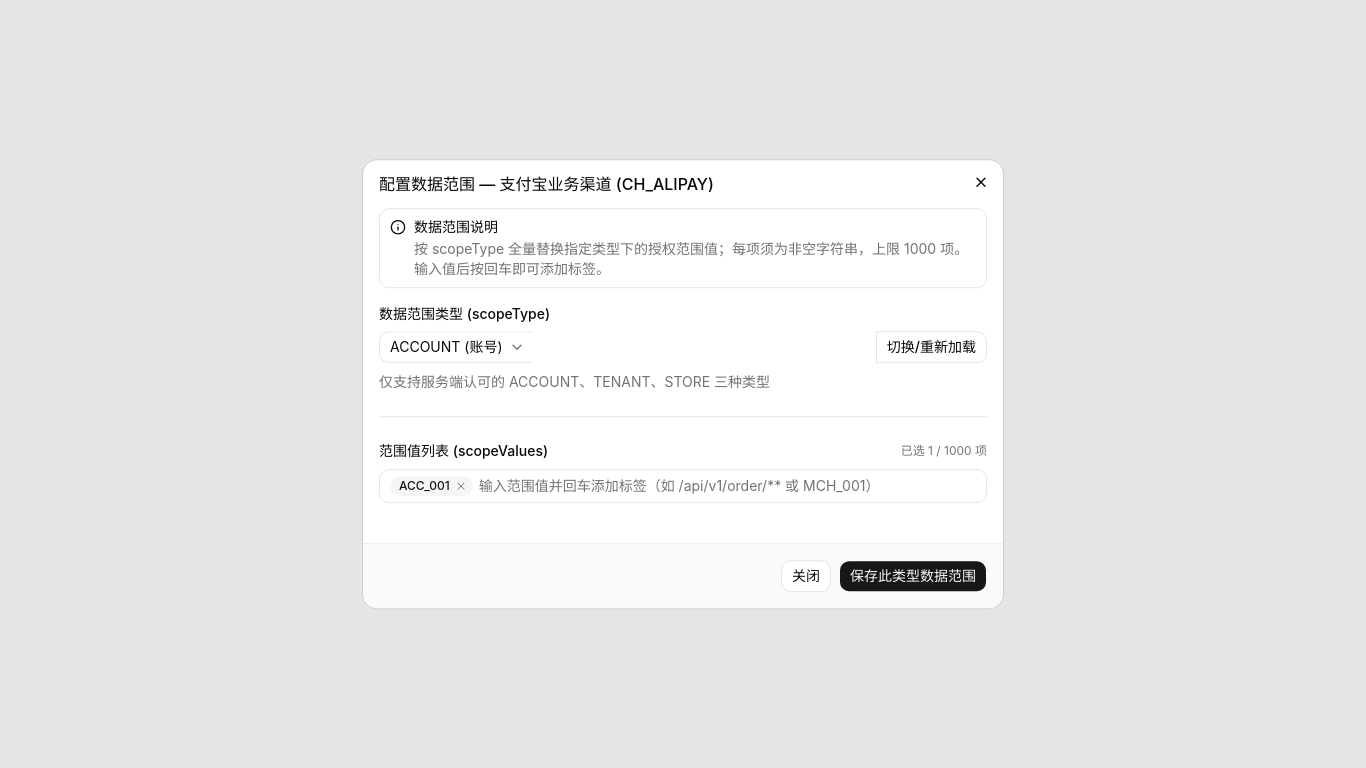
Test: DataScopeModal (渠道凭证 数据范围配置弹窗) › 关闭后重开时状态复位 - 错误提示被清除且重新拉取数据
Expected: the text "ACC_001" is shown, [399, 478, 450, 494]
Click the button "保存此类型数据范围" at (913, 576), box [839, 560, 987, 592]
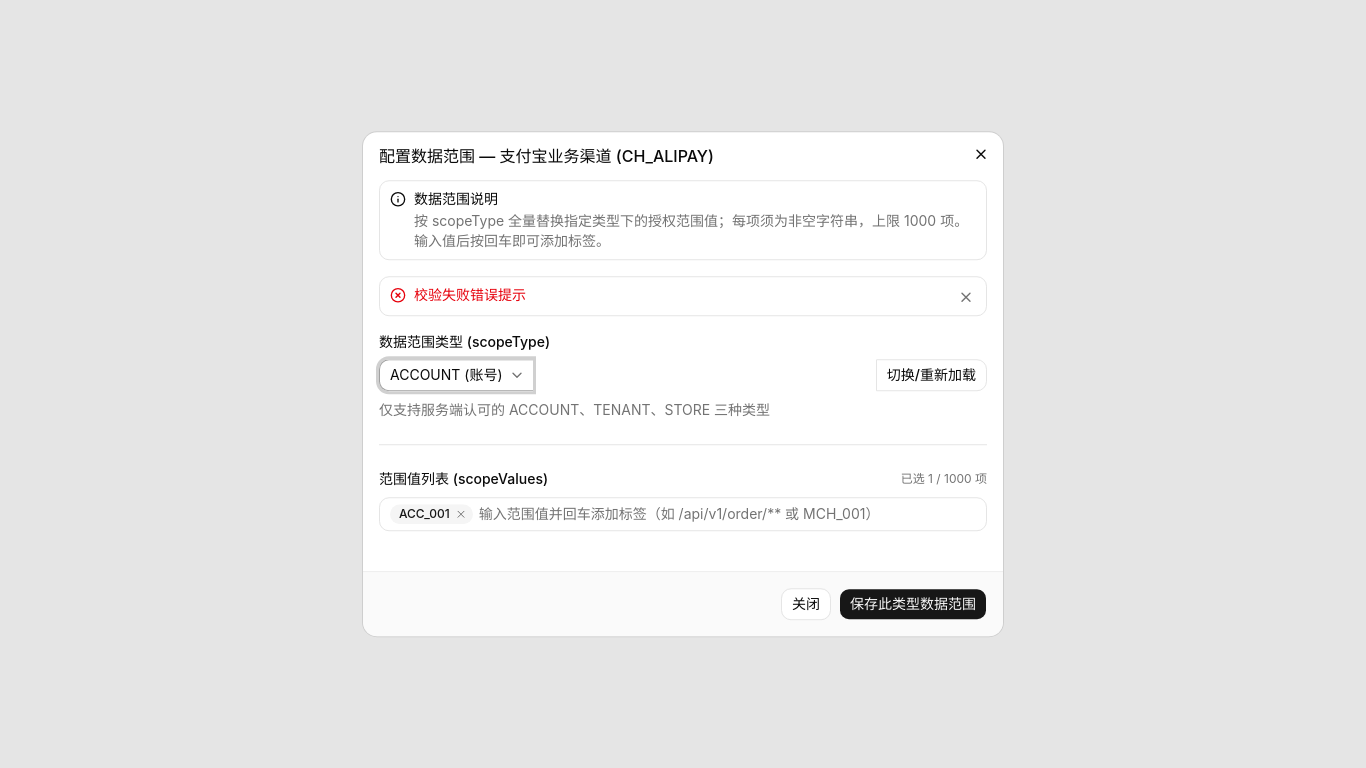
Expected: the text "校验失败错误提示" is shown, [414, 286, 526, 303]
